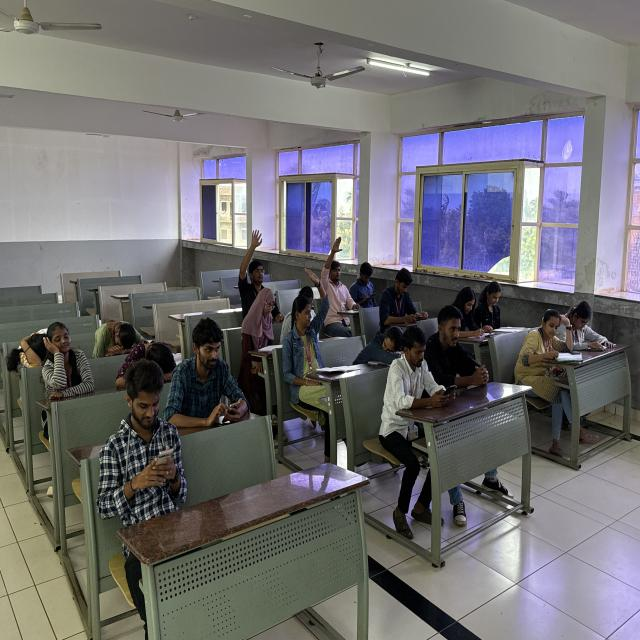Hand Rising: (284, 267, 336, 392), (314, 234, 365, 328), (238, 227, 272, 308)
Reading: (576, 298, 618, 354), (476, 282, 508, 339)
Sleeping: (85, 310, 157, 356), (6, 321, 54, 378), (117, 340, 181, 381)
Using Phone: (98, 357, 190, 506), (372, 328, 450, 478), (194, 315, 259, 432), (381, 252, 437, 326)
Writing: (512, 309, 573, 422), (462, 288, 487, 342)
